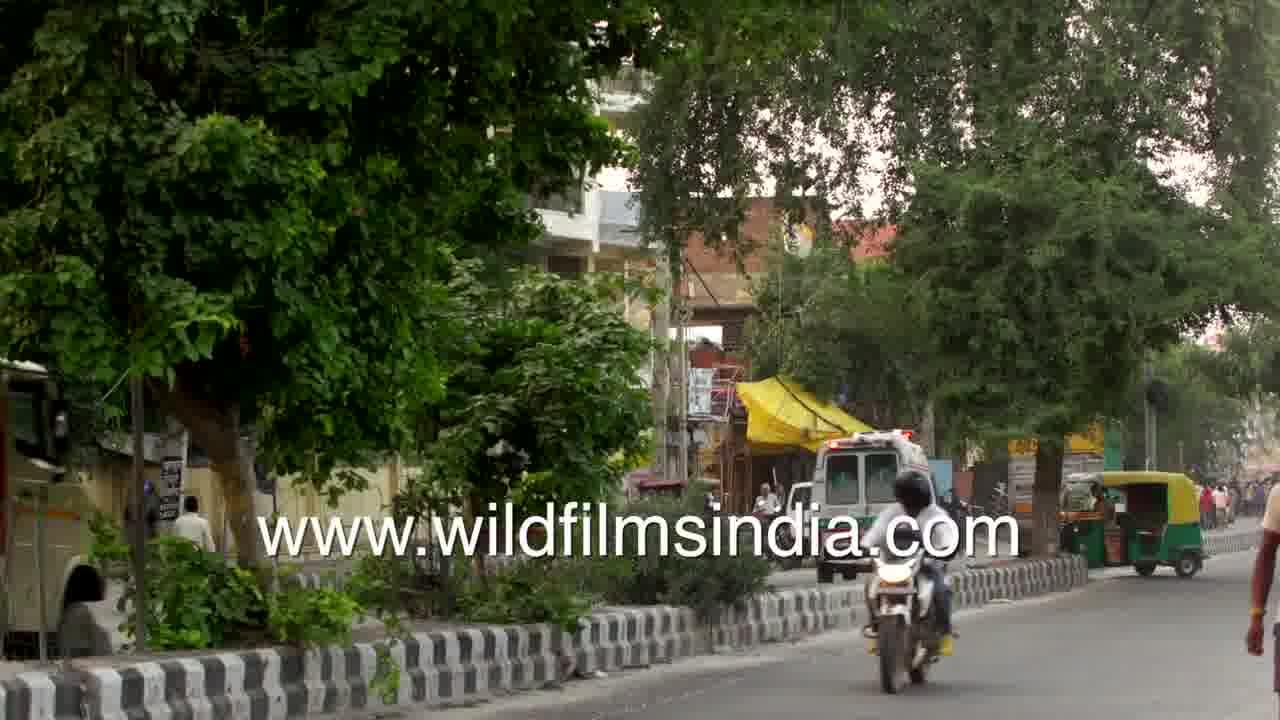AMBULANCE: (806, 431, 927, 490)
